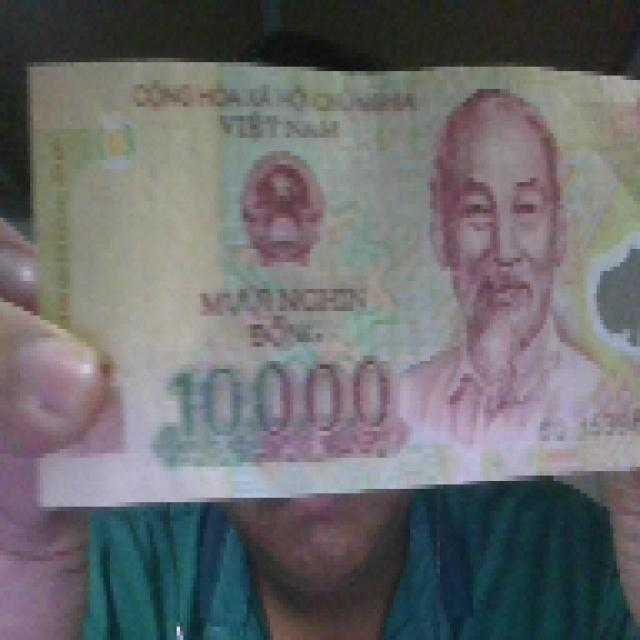10 000 VND: (23, 53, 637, 507)
